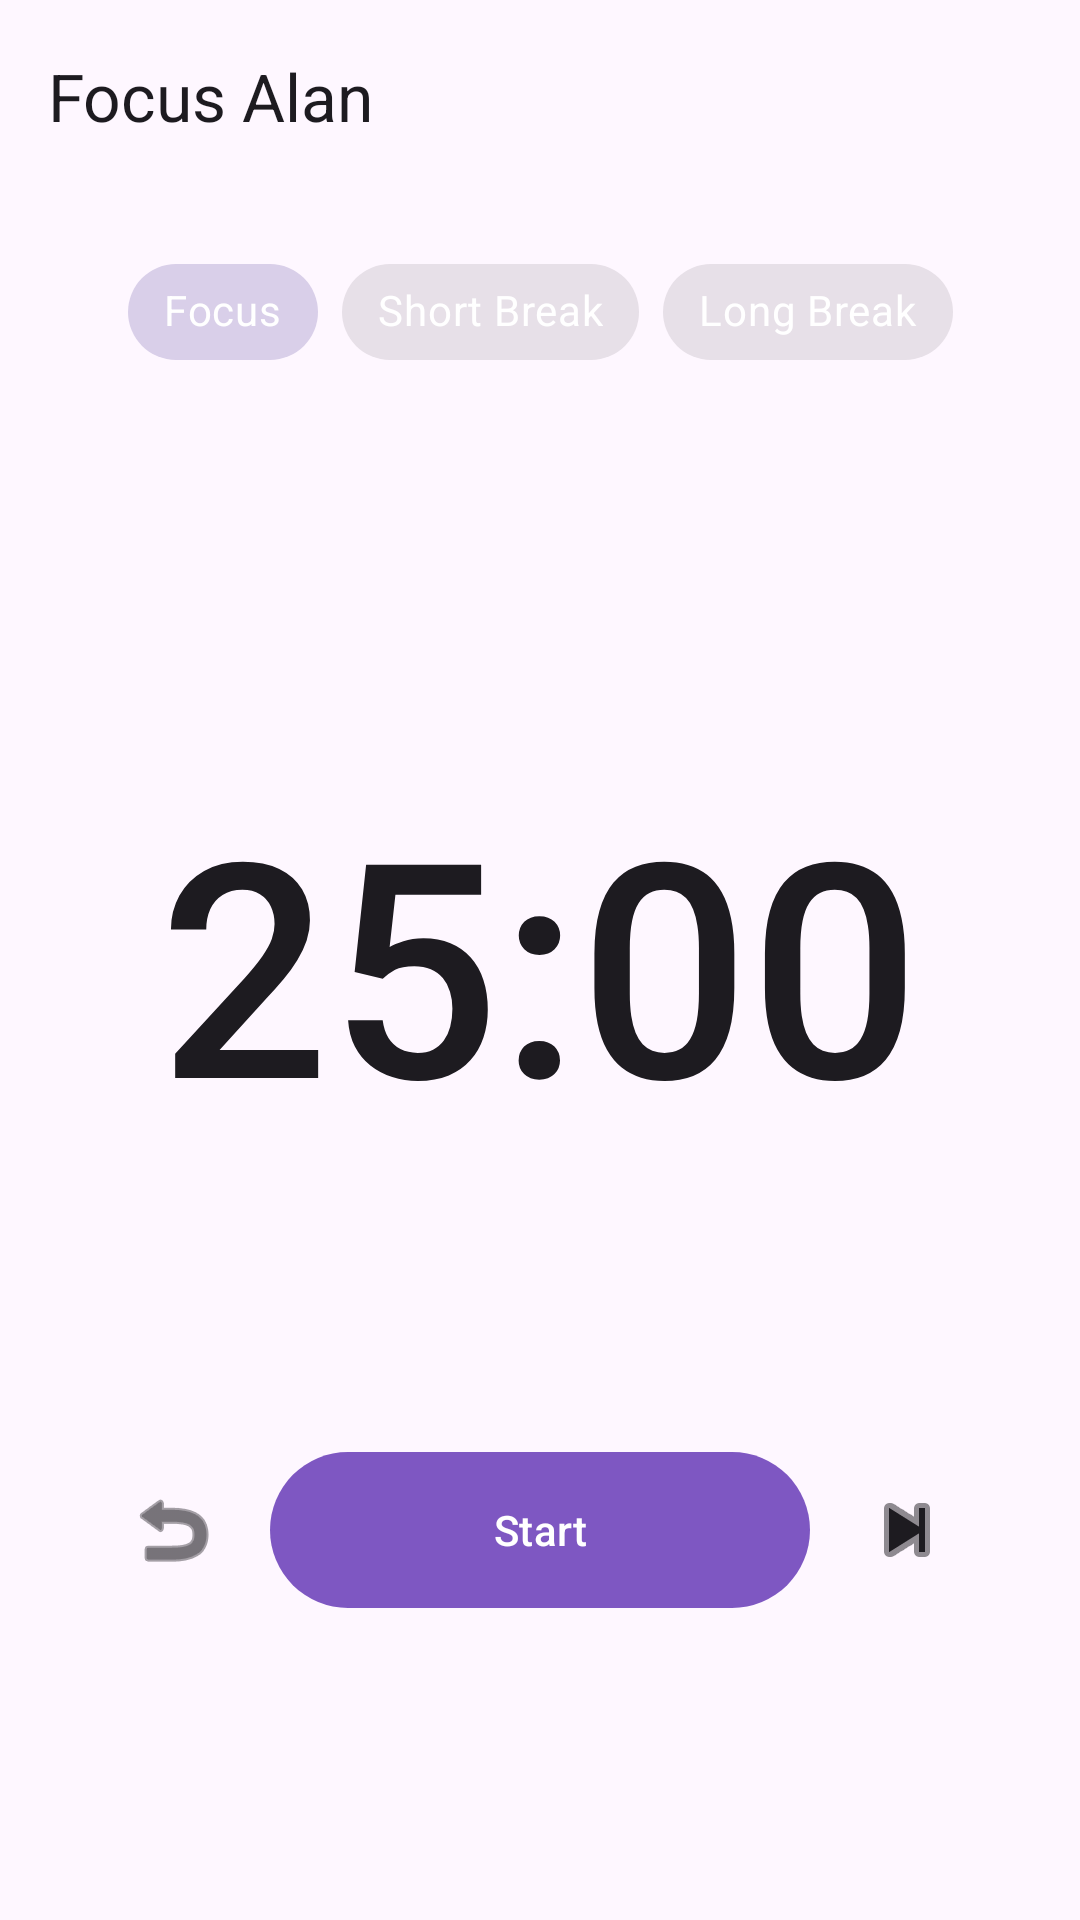

Point at icon controls on the screen. Image size 1080*1920, points as (x=x, y=y).
Reset: (x=174, y=1530)
Skip: (x=907, y=1530)
